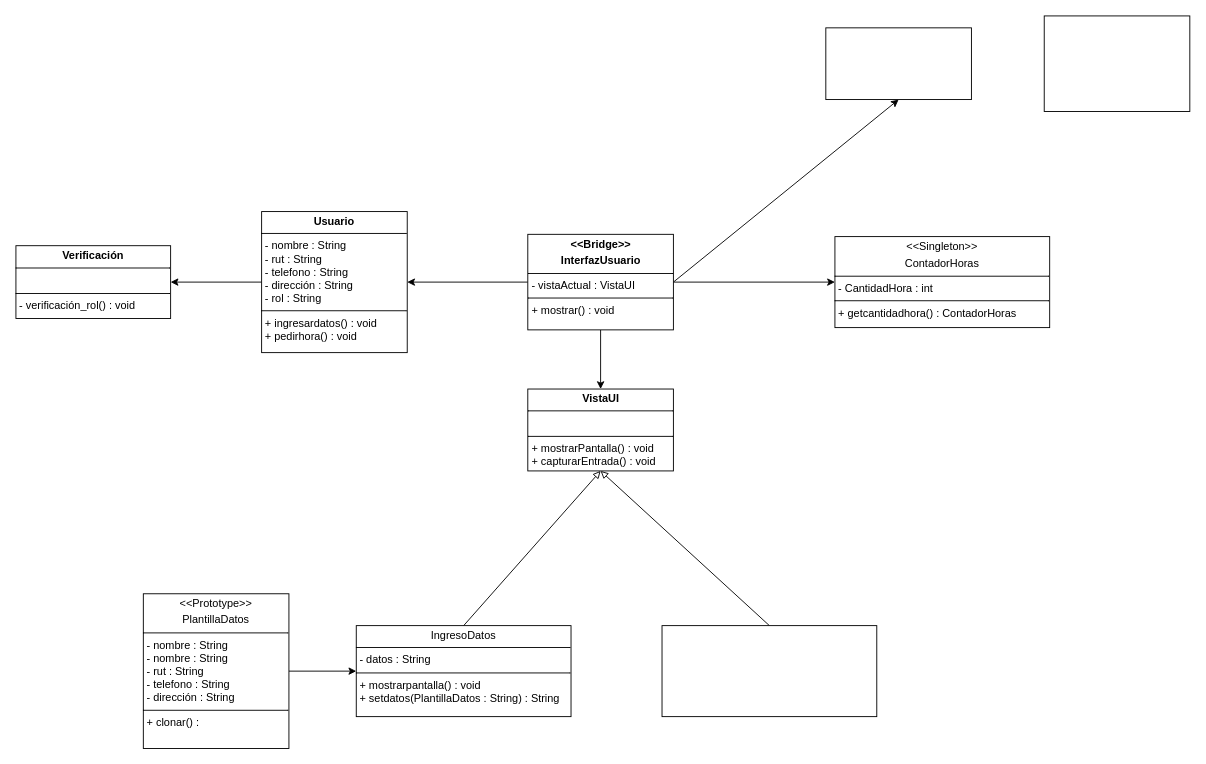
Image size: 1206x764. Some labels were removed from this diagram. The box of each missing label's shape, as (x1, y1, x2, y2) in pixels:
PedirHora - Hora : Date - Atención : String + AsignarHora() : void: (661, 625, 877, 717)
Recordatorio - tipo : String - mensaje : String + generar() : void: (1043, 15, 1190, 111)
ServicioRecordatorio + enviar_recordatorio() : void: (825, 27, 971, 100)
